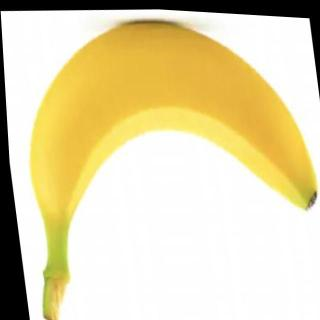banana: (7, 2, 320, 241)
